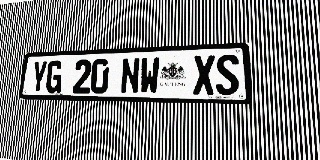0: (90, 59, 109, 94)
2: (73, 59, 92, 93)
G: (45, 60, 63, 93)
N: (120, 57, 140, 94)
S: (216, 54, 239, 95)
W: (139, 57, 160, 94)
X: (193, 55, 215, 95)
Y: (30, 61, 48, 93)
